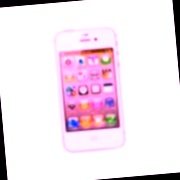iphone: (59, 29, 121, 152)
